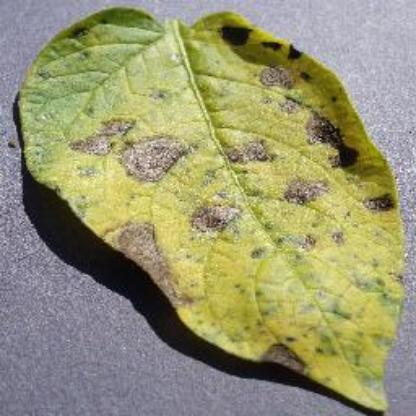Early-Blight: (15, 0, 415, 416)
